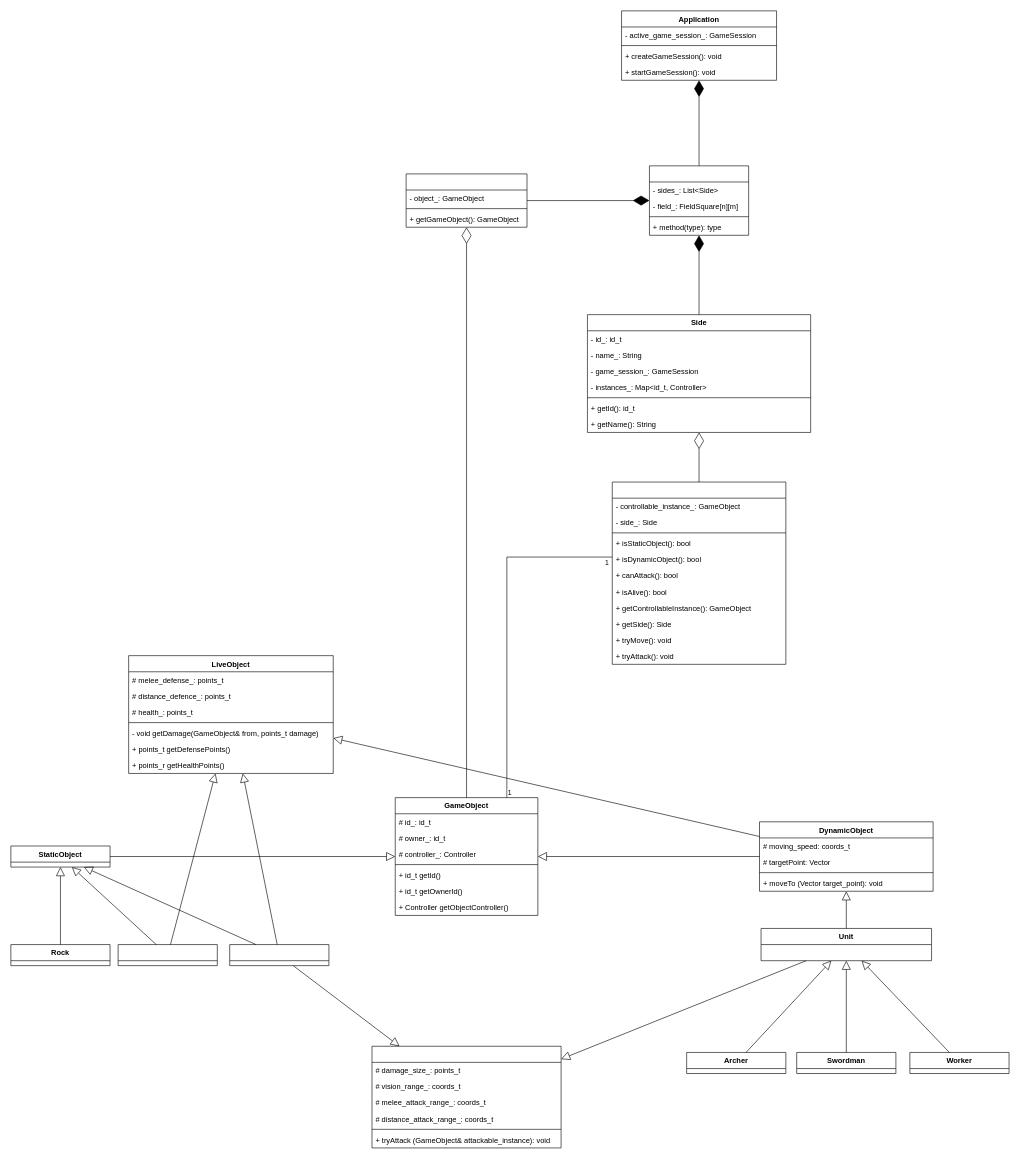
The diagram is 1020 pixels wide and 1161 high, and some of its shapes have lost their labels. The shapes that lost their labels are listed below. From the top down, each one's box as (x1, y1, x2, y2) in pixels, then its label:
(405, 173, 527, 227): FieldSquare
(649, 165, 749, 235): GameSession
(612, 481, 786, 664): Controller
(117, 944, 217, 966): Wall
(229, 944, 329, 966): Base
(371, 1046, 561, 1148): AttackObject
